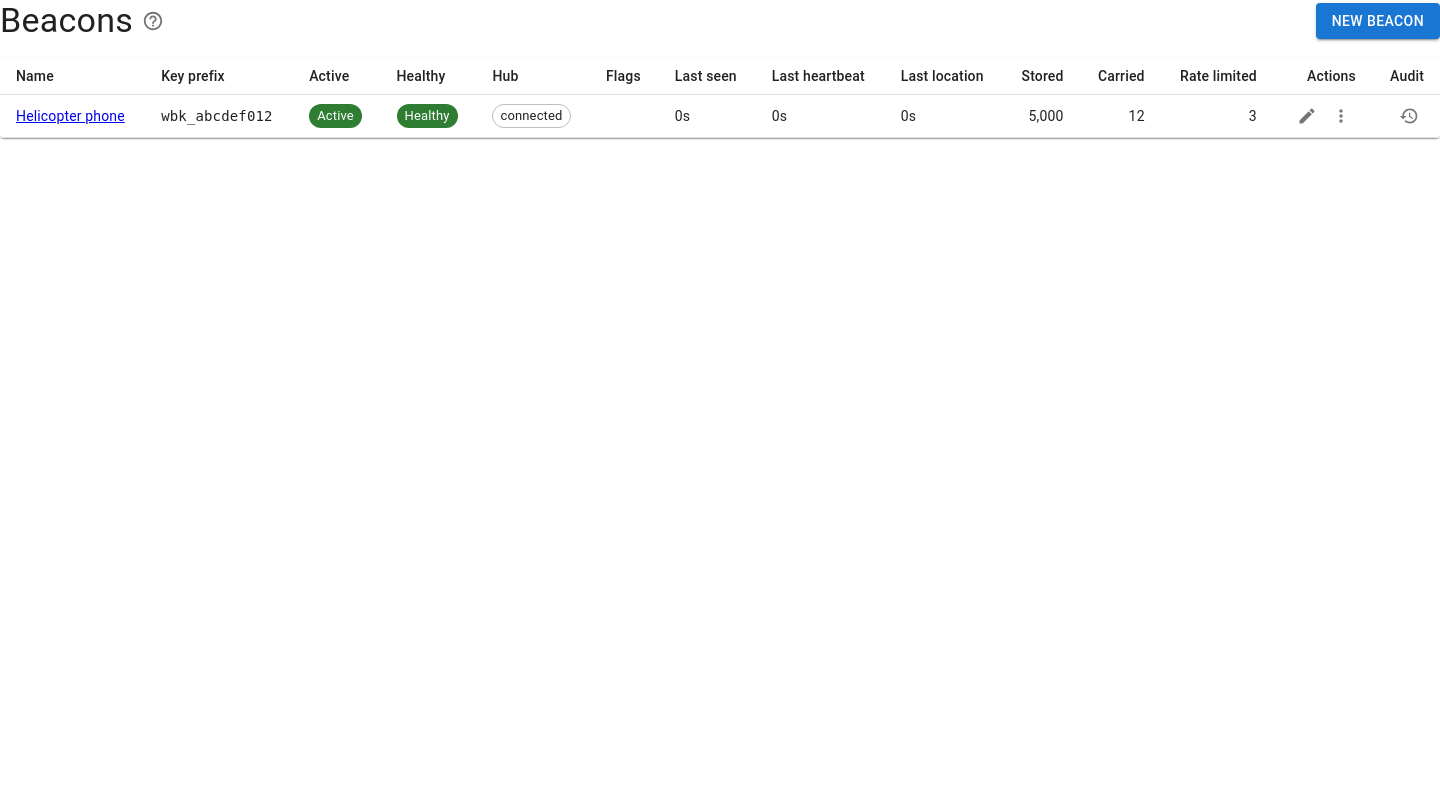
it: BeaconsList › rotate on an active beacon while an event is live warns about fan-out
// Open the row menu, then click Rotate.
What coordinates should you click on to do the following:
click the button named "Actions for Helicopter phone"
I would click on:
 (1341, 116)
Its box is [1326, 101, 1356, 131].
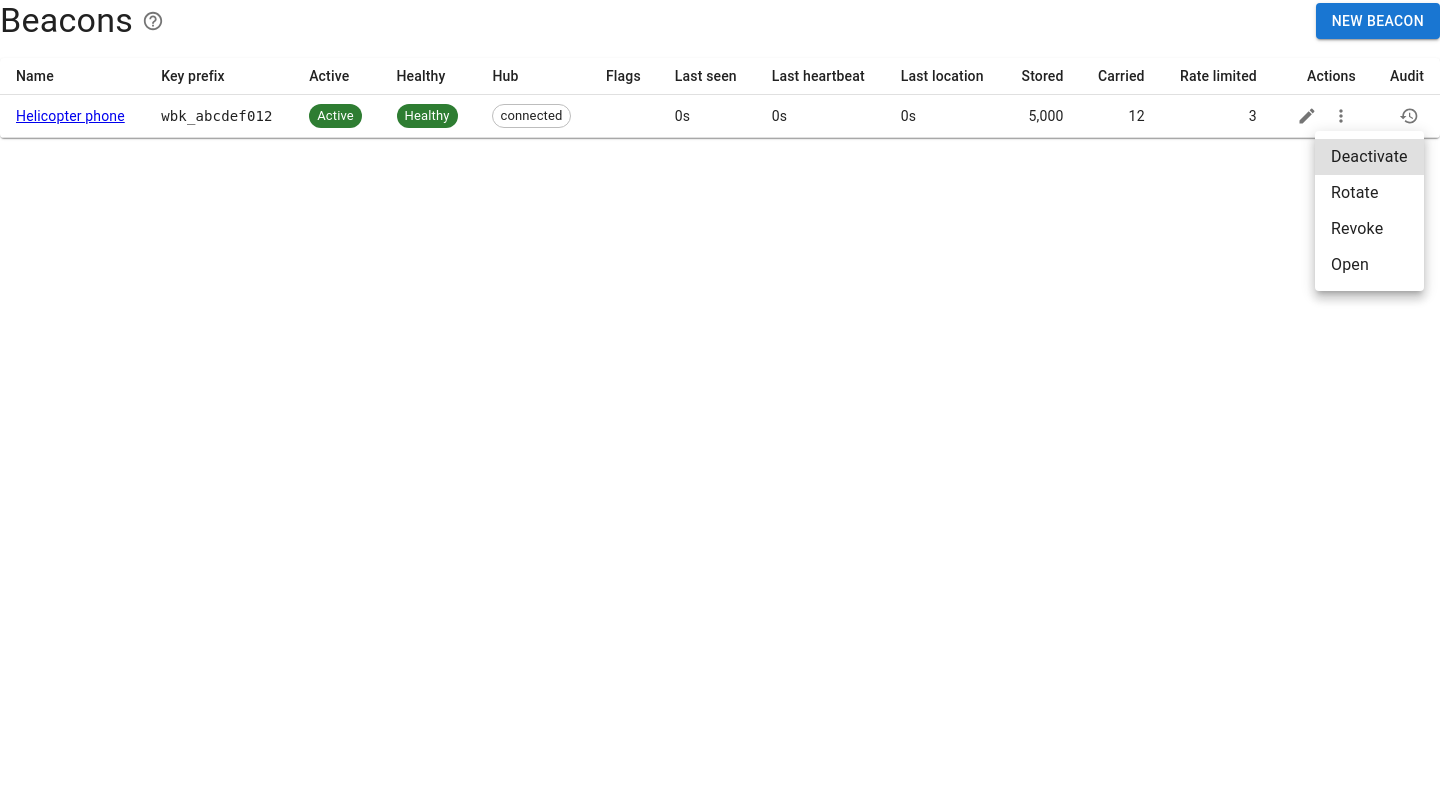
What coordinates should you click on to do the following:
click the menu item "Rotate"
I would click on:
 (1355, 192)
Its box is [1331, 183, 1378, 202].
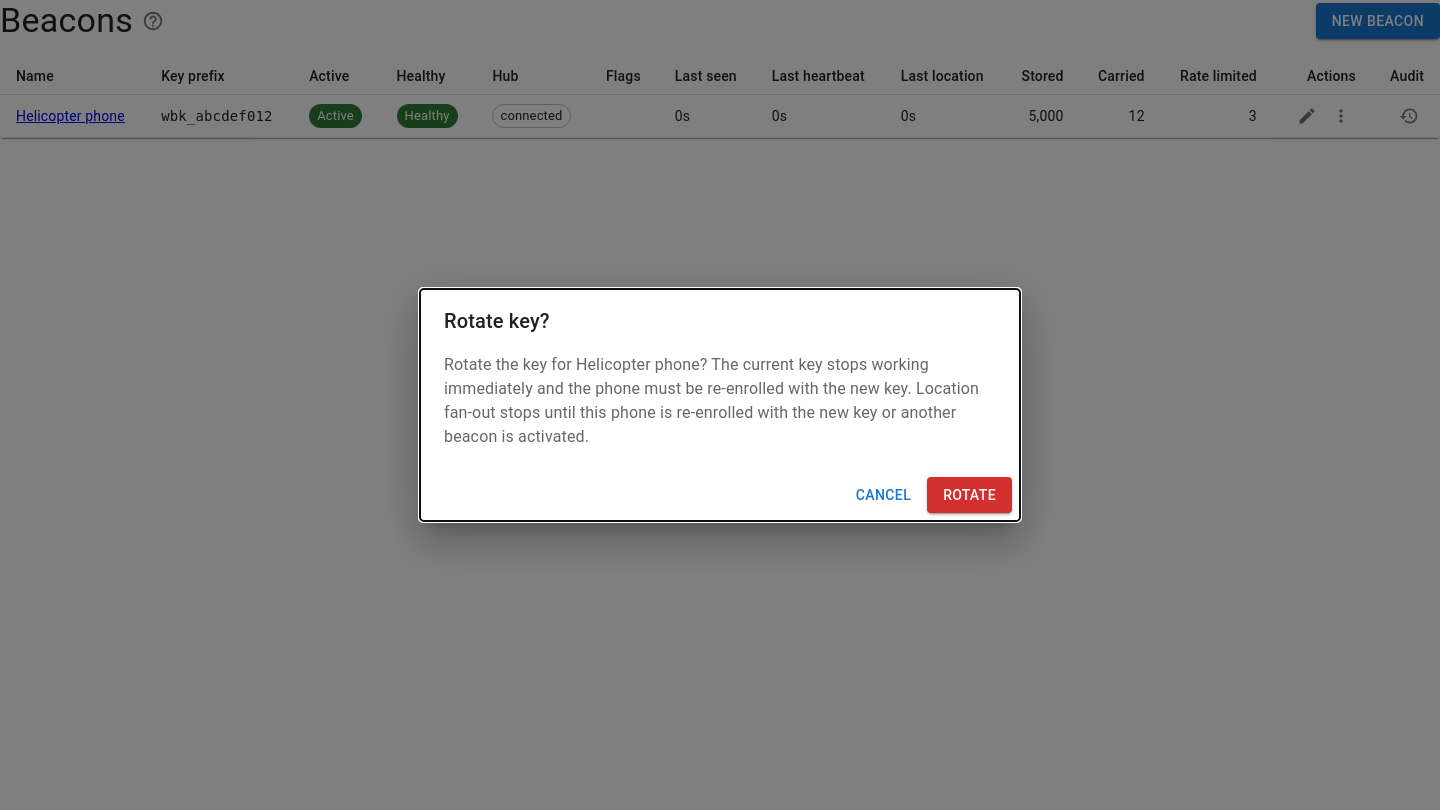
Expected: the text "location fan-out stops until this phone is re-enrolled" is shown, [444, 355, 979, 446]
